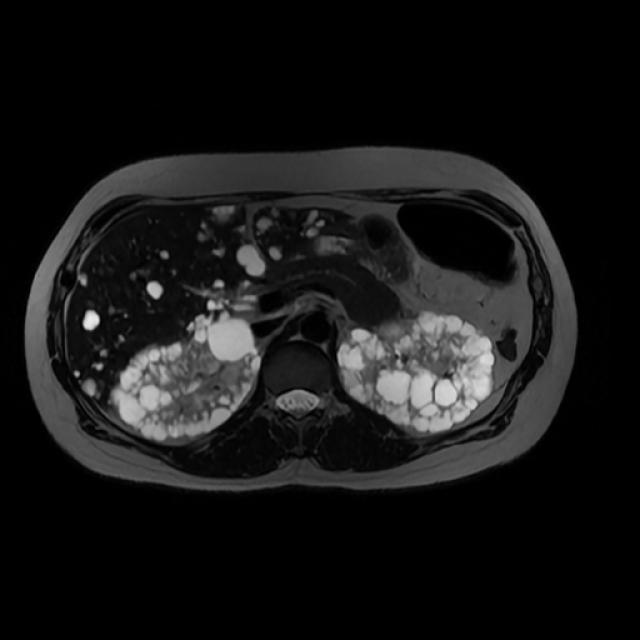sag: (111, 317, 260, 442)
sol: (337, 313, 497, 434)
